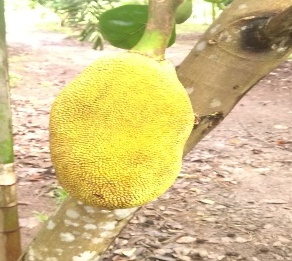Mit: (50, 53, 195, 210)
